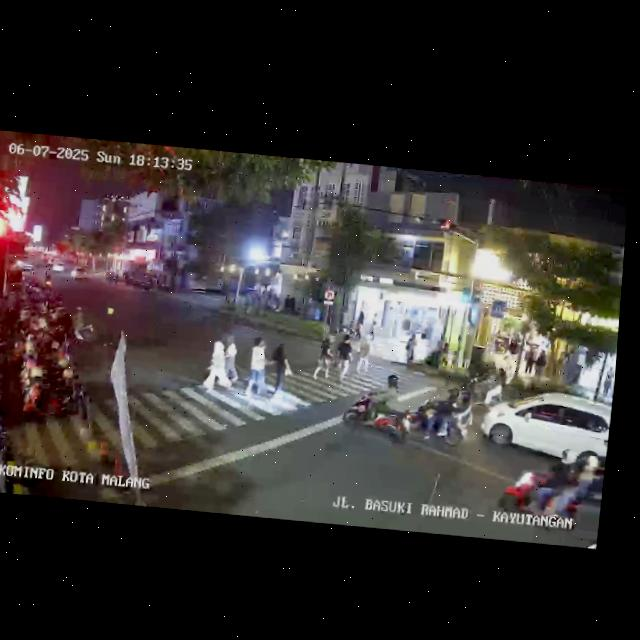car: (479, 387, 612, 475)
motorcycle: (495, 445, 606, 543), (341, 374, 419, 448), (402, 382, 478, 449), (456, 364, 505, 407), (69, 305, 96, 346)
person: (263, 342, 292, 401), (244, 334, 270, 398), (217, 334, 243, 395), (198, 335, 224, 395), (335, 332, 355, 378), (313, 339, 332, 382), (354, 338, 371, 377), (403, 332, 419, 364), (533, 345, 548, 379), (522, 341, 536, 377), (366, 311, 378, 341), (352, 310, 364, 335), (603, 370, 613, 399)
